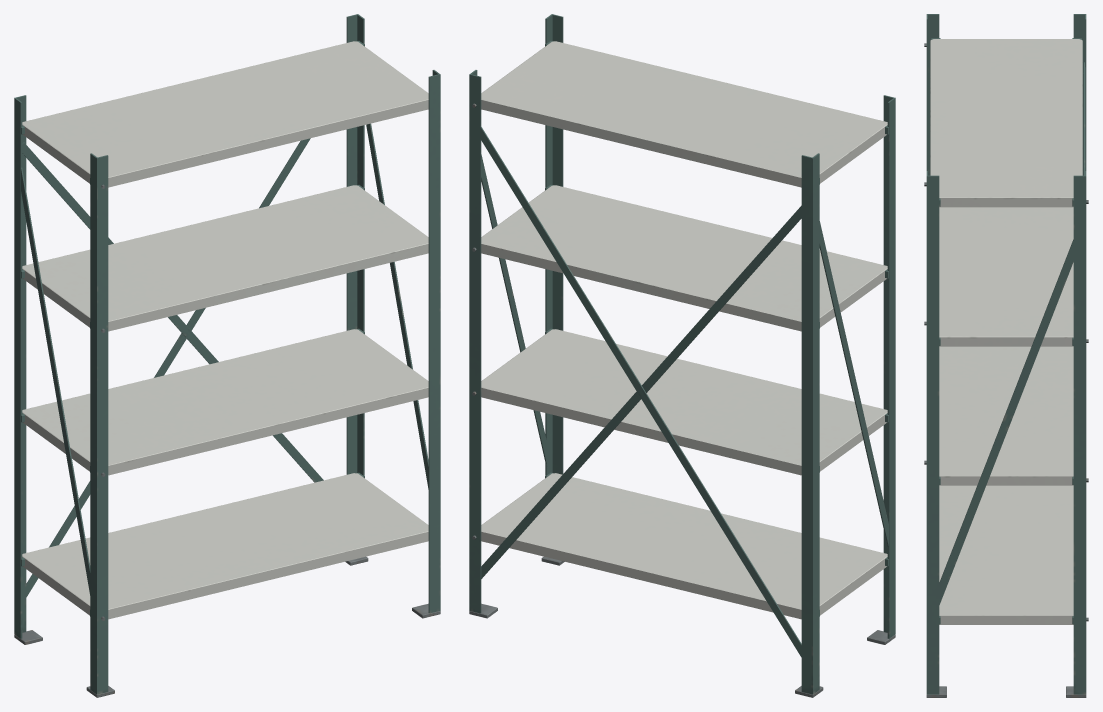
File: pharmacy_shelf_empty.glb
3 views of the same model, side by side, from view 1: azimuth 30°, elevation 25°; view 2: azimuth 150°, elevation 25°; view 3: azimuth 270°, elevation 25° (orthographic). The views are drawn at different scales.
Parts seen in each view (by area): view 1: PharmacyShelfEmpty; view 2: PharmacyShelfEmpty; view 3: PharmacyShelfEmpty.
Boxes of the visible parts, x1,y1,x2,y2 form: PharmacyShelfEmpty: [14, 14, 440, 697]; PharmacyShelfEmpty: [469, 14, 895, 697]; PharmacyShelfEmpty: [924, 14, 1088, 697].
Size of what is drawn, in the model's own units: 1.2 by 1.8 by 0.514.
1 material, 1 textured.
